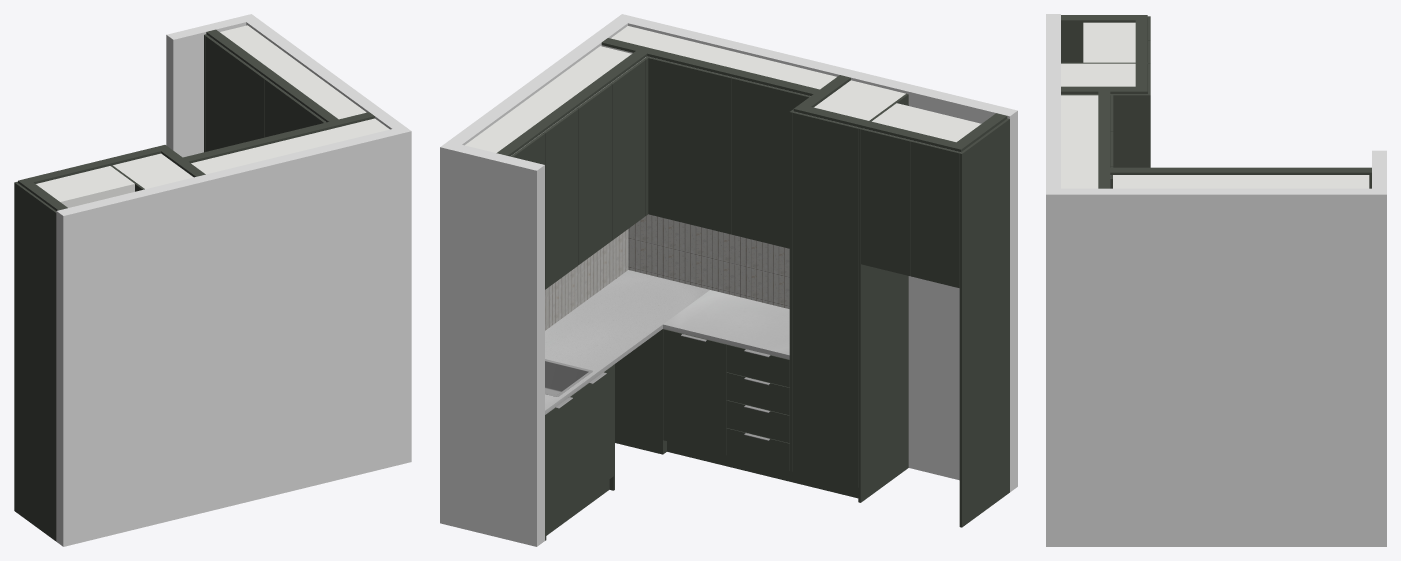
3 renders of one model, left to right at view 1: azimuth 30°, elevation 25°; view 2: azimuth 150°, elevation 25°; view 3: azimuth 270°, elevation 25°, orthographic. The views are drawn at different scales.
Parts seen in each view (by area): view 1: Wall, End_Panel, Top (×5), Shadow_Line (×3), Door_LH (×2), Door_RH (×2), Back; view 2: Wall, Door_RH (×6), Door_LH (×5), End_Panel (×2), Stone_Benchtop (×2), Top (×5), SplashBack2, Shadow_Line (×3), Blind_Panel (×2), Splashback1, Kick_Face (×2), DF_2 (+5 smaller); view 3: Wall, Top (×5), Shadow_Line (×3), Panel, End_Panel.
Boxes of the visible parts, box(x1,y1,x2,y2) form: Wall: box(56, 14, 411, 546); End_Panel: box(14, 182, 56, 541); Top (×5): box(36, 26, 387, 200); Shadow_Line (×3): box(18, 29, 374, 210); Door_LH (×2): box(205, 35, 295, 151); Door_RH (×2): box(234, 57, 324, 144); Back: box(59, 183, 132, 207); Wall: box(440, 14, 1017, 546); Door_RH (×6): box(543, 59, 960, 500); Door_LH (×5): box(546, 58, 911, 525); End_Panel (×2): box(858, 93, 1009, 527); Stone_Benchtop (×2): box(545, 270, 789, 414); Top (×5): box(467, 27, 979, 156); SplashBack2: box(628, 214, 789, 308); Shadow_Line (×3): box(496, 38, 1007, 156); Blind_Panel (×2): box(615, 56, 664, 454); Splashback1: box(545, 229, 628, 330); Kick_Face (×2): box(546, 441, 858, 535); DF_2: box(726, 372, 789, 415); Wall: box(1046, 14, 1386, 546); Top (×5): box(1063, 22, 1366, 188); Shadow_Line (×3): box(1061, 15, 1371, 188); Panel: box(1061, 94, 1150, 188); End_Panel: box(1061, 16, 1150, 62).
Bounding box in the file's own units: 2.86 × 2.6 × 2.28.
11 materials, 3 textured.
